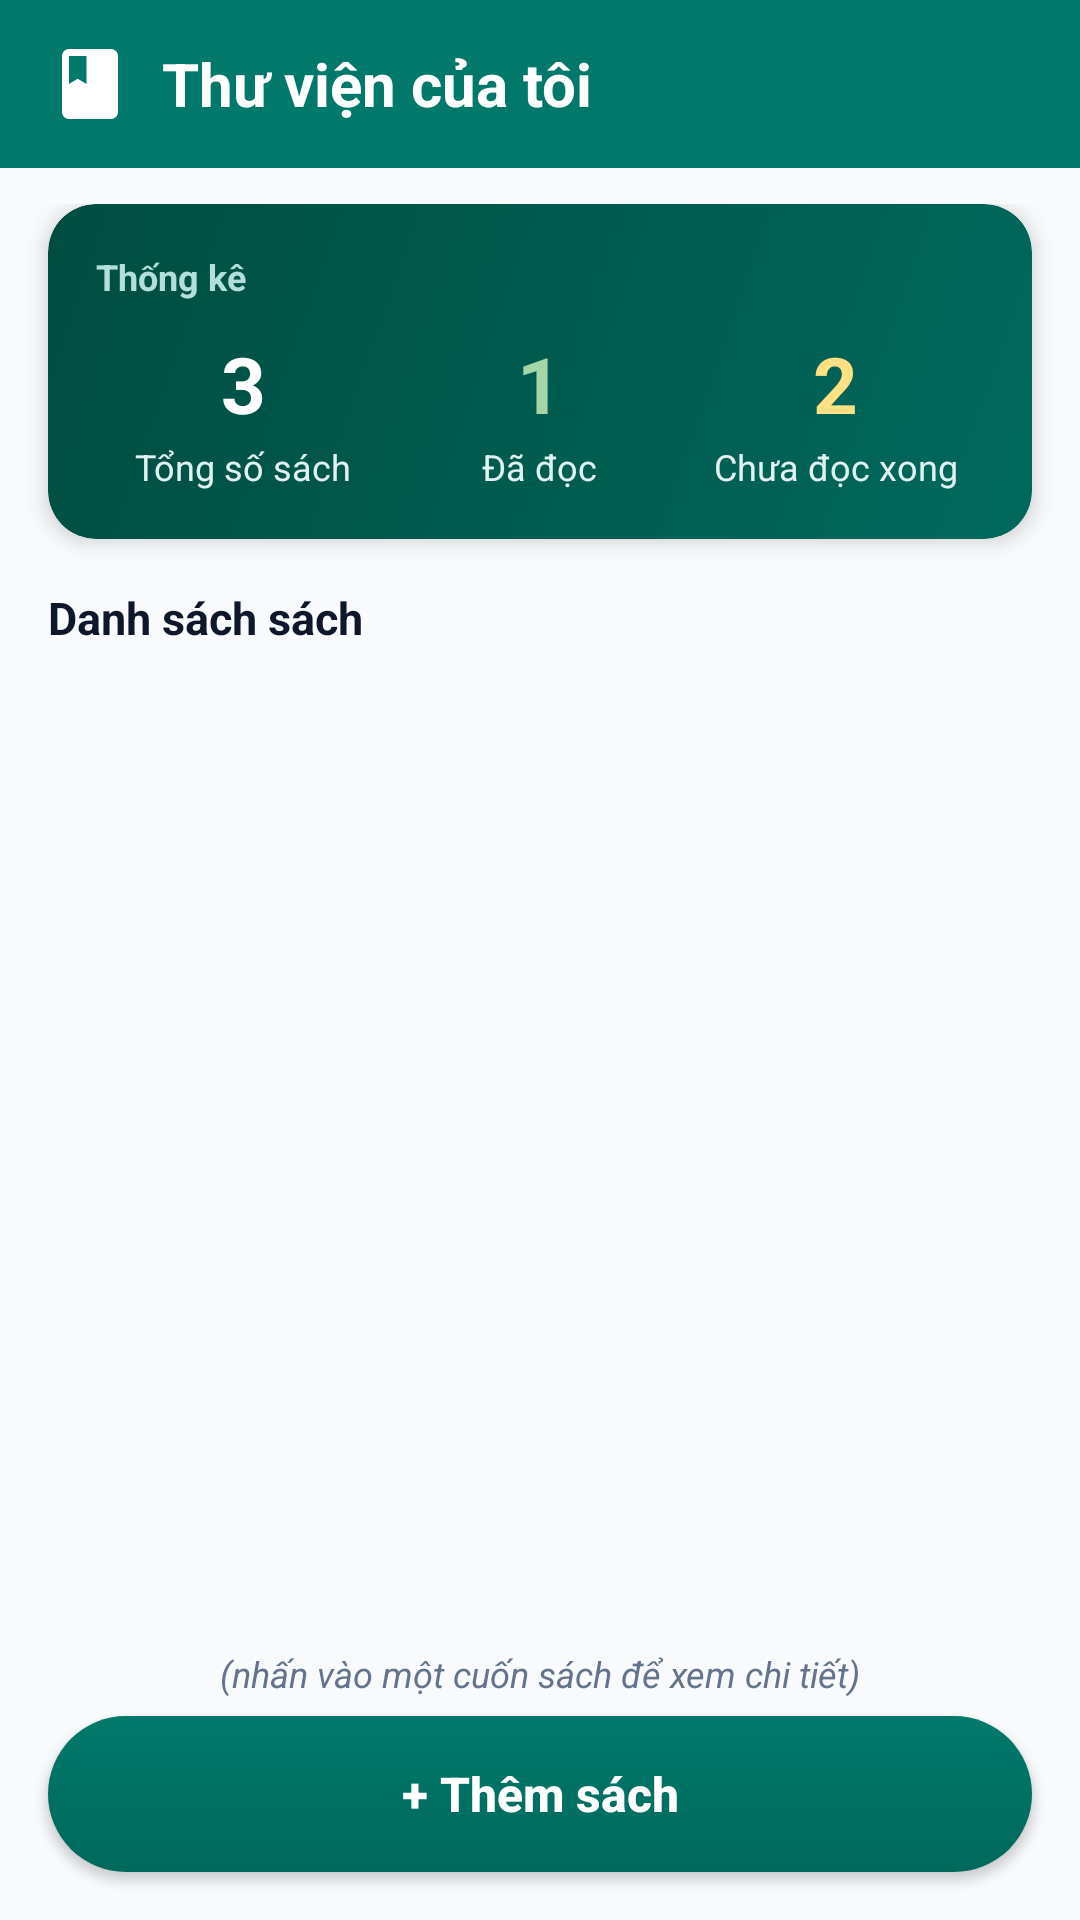

Locate icon controls on the screen. Image size 1080w x 1920h, boxes as detection(x1, y1, x2, y2).
Library Icon: detection(62, 49, 118, 119)
